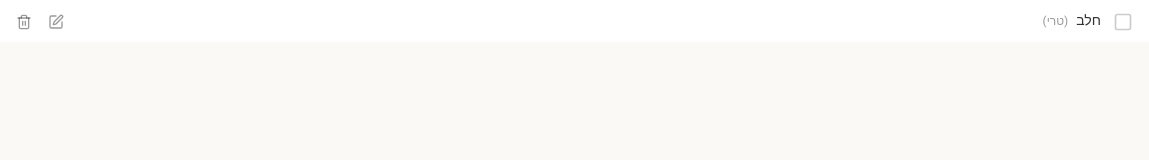
GroceryItem › shows delete confirmation on first delete click
The image size is (1149, 160).
Click the 1st button at x=24, y=22, box [16, 14, 32, 30]
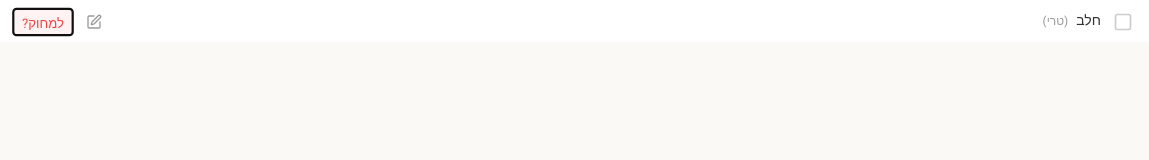
Now the text "למחוק?" is shown, box [22, 13, 64, 33]
